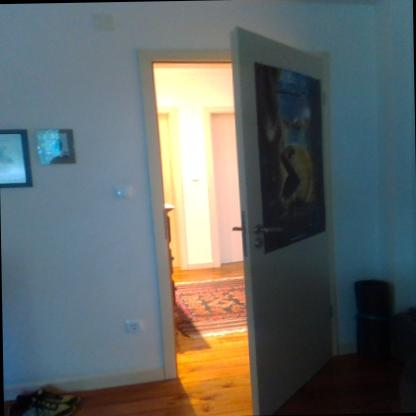semi: (144, 39, 339, 416)
